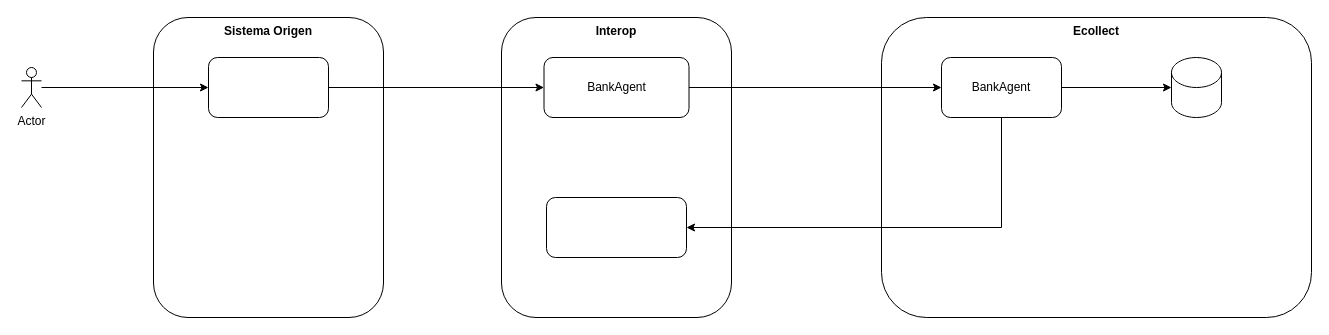
This 1329x335 diagram has some shape labels left out. Here are the shapes that lost their labels. From the top down, the centre of each, then its label:
the point at 268,87: Portal
the point at 616,227: getRecordsForPayment
